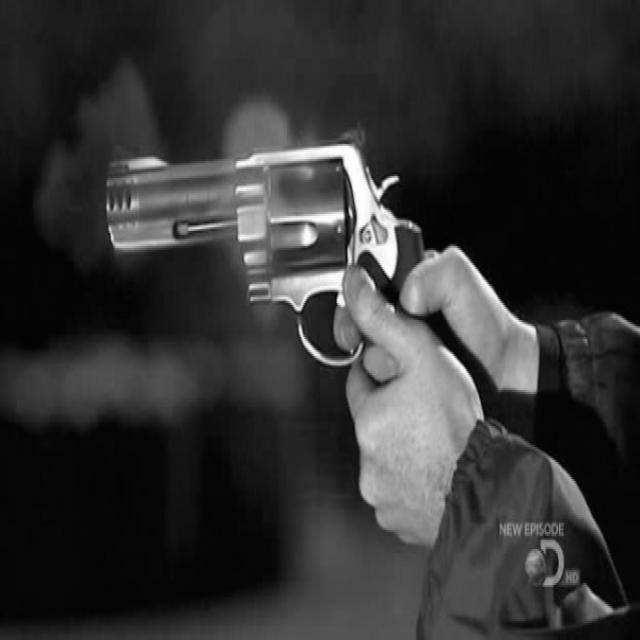weapons: (96, 116, 463, 414)
